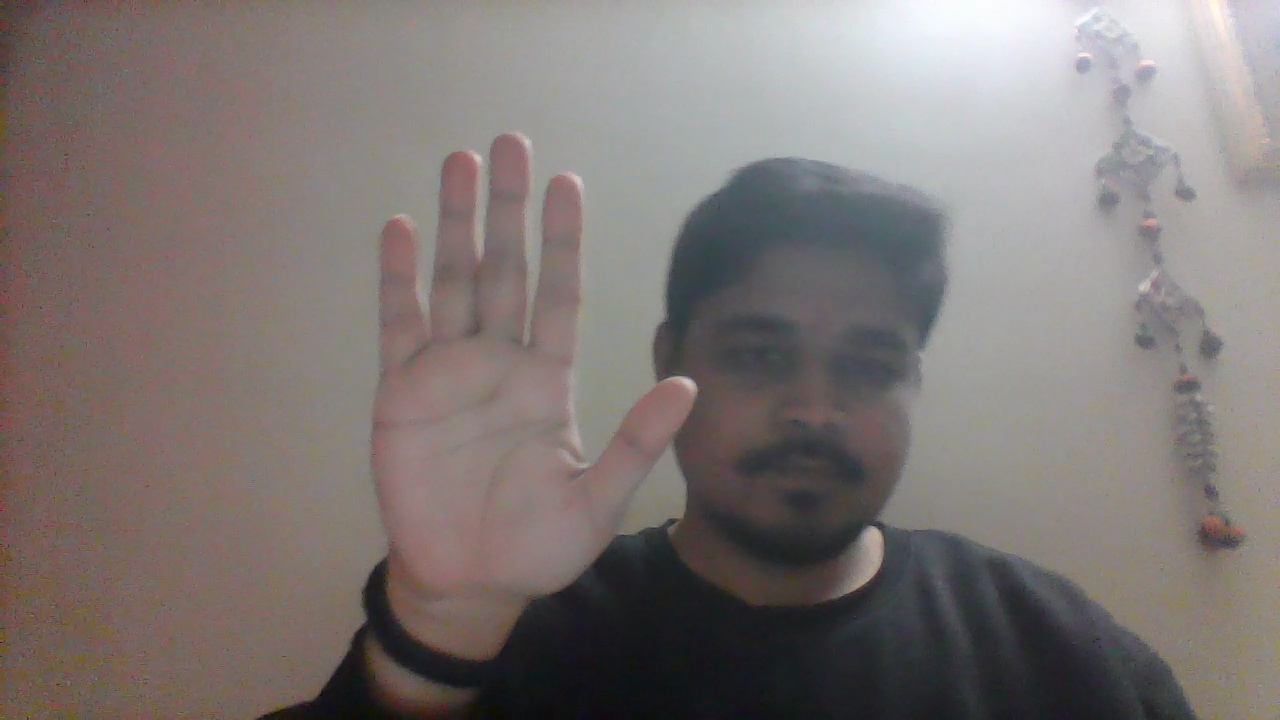Hello: (356, 129, 703, 614)
